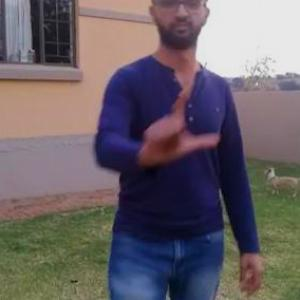land_hand: (136, 79, 221, 167)
